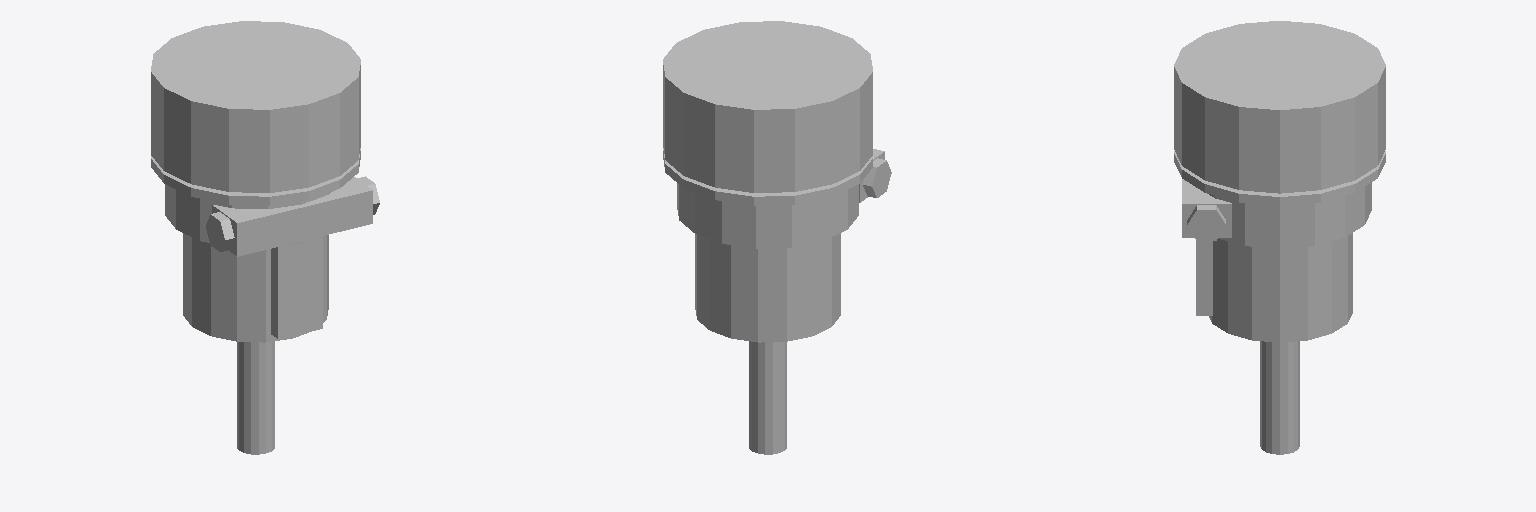
Rendered from 压力计.obj.
3 renders of one model, left to right at view 1: azimuth 30°, elevation 25°; view 2: azimuth 150°, elevation 25°; view 3: azimuth 270°, elevation 25°, orthographic.
Parts seen in each view (by area): view 1: Cylinder060, Cylinder062; view 2: Cylinder060, Cylinder062; view 3: Cylinder060, Cylinder061.
Boxes of the visible parts, x1,y1,x2,y2 form: Cylinder060: [151, 21, 372, 454]; Cylinder062: [206, 212, 234, 251]; Cylinder060: [663, 21, 884, 454]; Cylinder062: [863, 158, 891, 197]; Cylinder060: [1174, 21, 1385, 454]; Cylinder061: [1187, 205, 1225, 240].
Bounding box in the file's own units: 18.56 × 36.75 × 18.56.